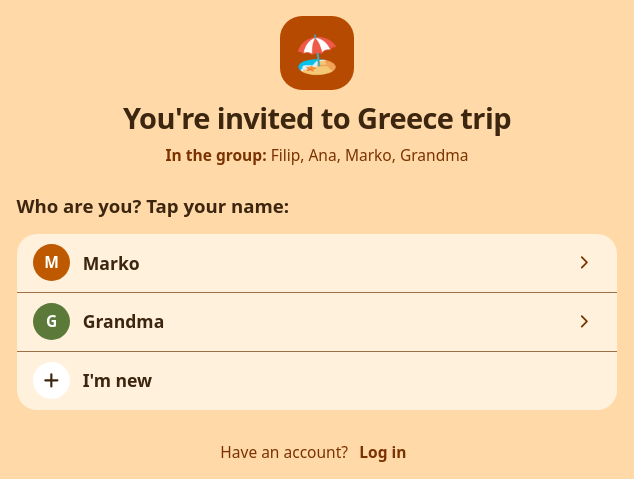
JoinScreen for a visitor without an account › with free names in the group › shows the spinner only on the tapped name while the join waits, so a slow server is visible
The width and height of the screenshot is (634, 479).
Click the button "G Grandma": (52, 322) [16,293,618,351]
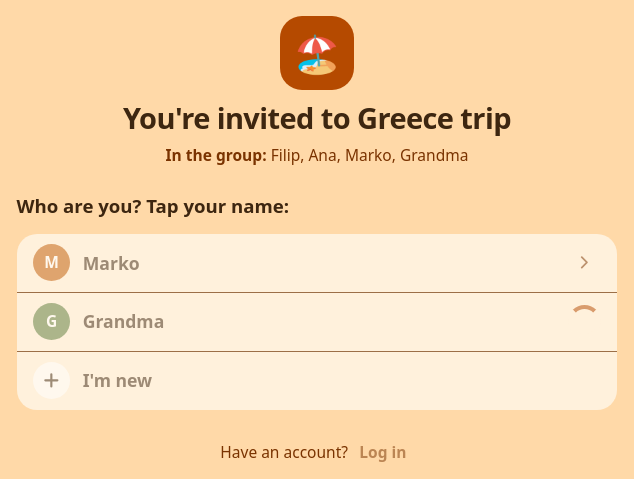
Check: the element with class "animate-spin" is shown, box [568,305,601,338]
